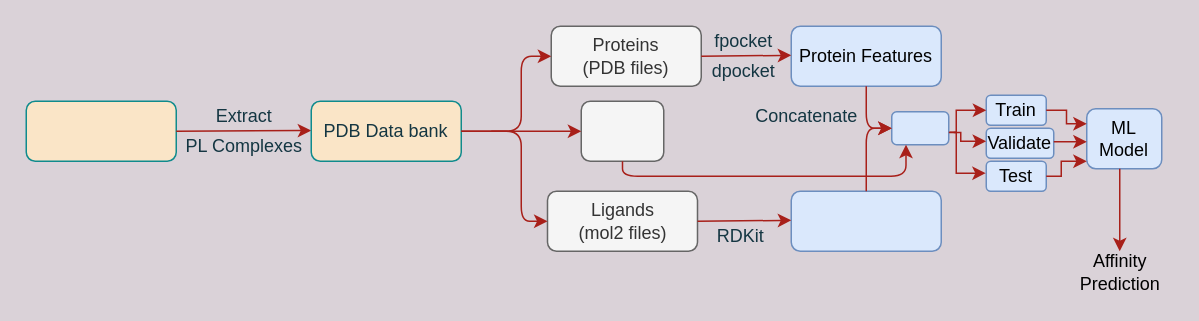
Some shapes in this 1199 by 321 pixel diagram are drawn without their labels. Here are the shapes that lost their labels. From the top down, the centre of each, then its label:
At (x=100, y=130): "Protein Data bank".
At (x=622, y=130): "Affinities".
At (x=919, y=127): "Input".
At (x=865, y=220): "Ligand Features".
